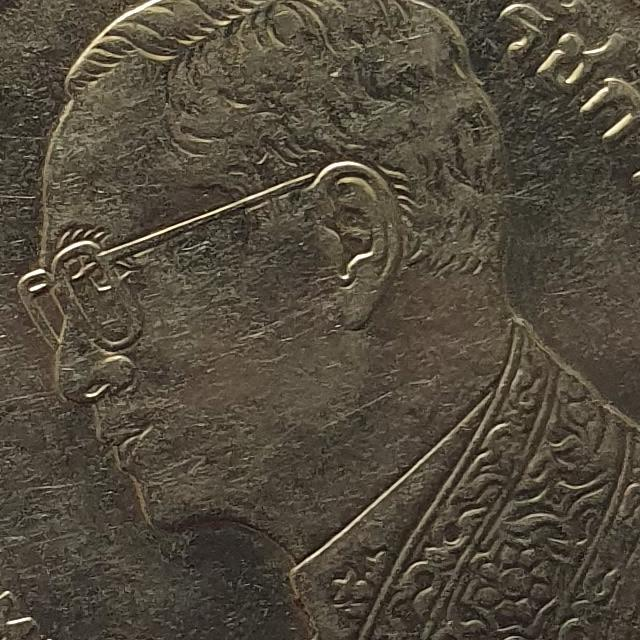5 Bath: (2, 1, 640, 640)
